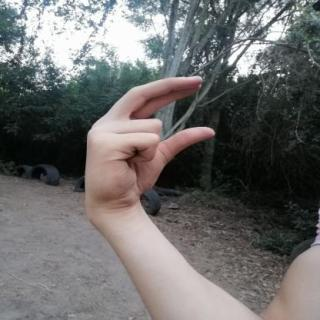DHELL: (74, 68, 228, 218)
